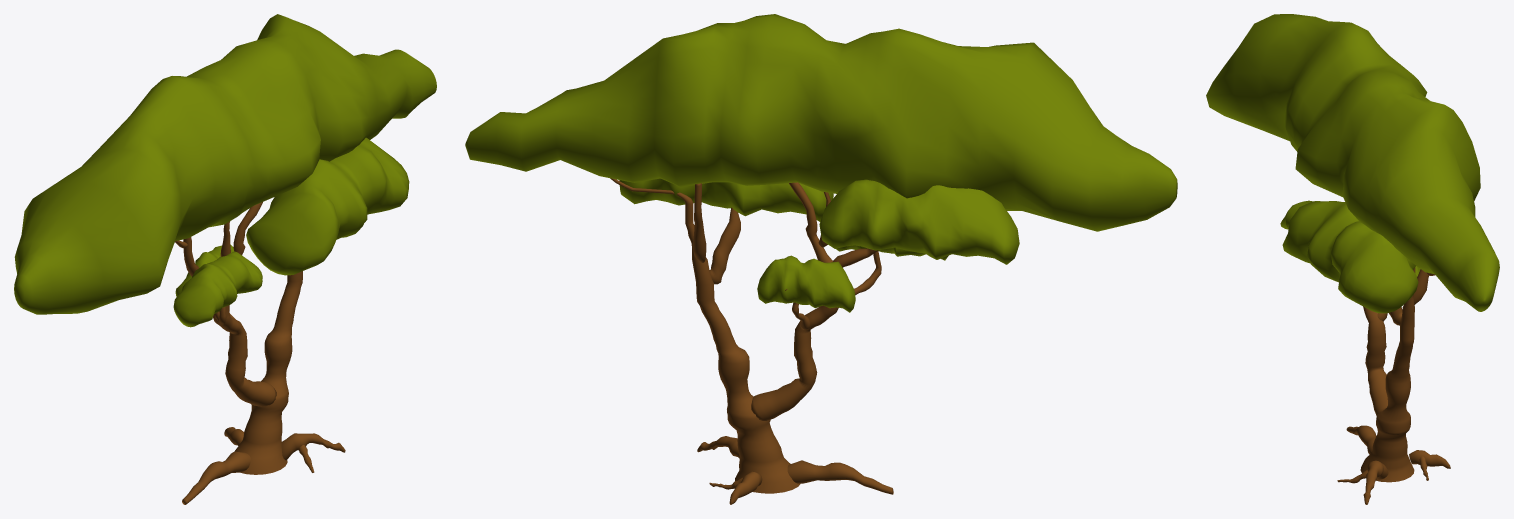
File: Tree.fbx
3 renders of one model, left to right at view 1: azimuth 30°, elevation 25°; view 2: azimuth 150°, elevation 25°; view 3: azimuth 270°, elevation 25°, orthographic. The views are drawn at different scales.
Parts seen in each view (by area): view 1: pCylinder6, pCylinder7, pCylinder1, pCylinder10, pCylinder2, pCylinder15, pCylinder16, pCylinder11; view 2: pCylinder6, pCylinder8, pCylinder1, pCylinder7, pCylinder9, pCylinder2, pCylinder15, pCylinder3, pCylinder11, pCylinder13; view 3: pCylinder6, pCylinder7, pCylinder1, pCylinder2, pCylinder16, pCylinder17, pCylinder15.
Boxes of the visible parts, x1,y1,x2,y2 form: pCylinder6: (14,14,436,314); pCylinder7: (246,137,409,275); pCylinder1: (234,271,302,474); pCylinder10: (173,251,262,327); pCylinder2: (183,237,276,406); pCylinder15: (182,451,250,504); pCylinder16: (281,433,345,460); pCylinder11: (233,202,262,254); pCylinder6: (465,14,1177,231); pCylinder8: (819,179,1019,264); pCylinder1: (610,178,800,493); pCylinder7: (619,178,833,221); pCylinder9: (757,255,855,312); pCylinder2: (751,248,878,420); pCylinder15: (787,460,893,494); pCylinder3: (709,207,740,284); pCylinder11: (789,182,832,262); pCylinder13: (692,183,706,262); pCylinder6: (1206,14,1499,311); pCylinder7: (1282,201,1418,313); pCylinder1: (1360,267,1435,482); pCylinder2: (1363,306,1387,415); pCylinder16: (1363,460,1388,504); pCylinder17: (1409,450,1450,468); pCylinder15: (1346,425,1376,454).
Bounding box in the file's own units: 7.95 × 6.08 × 4.04.
